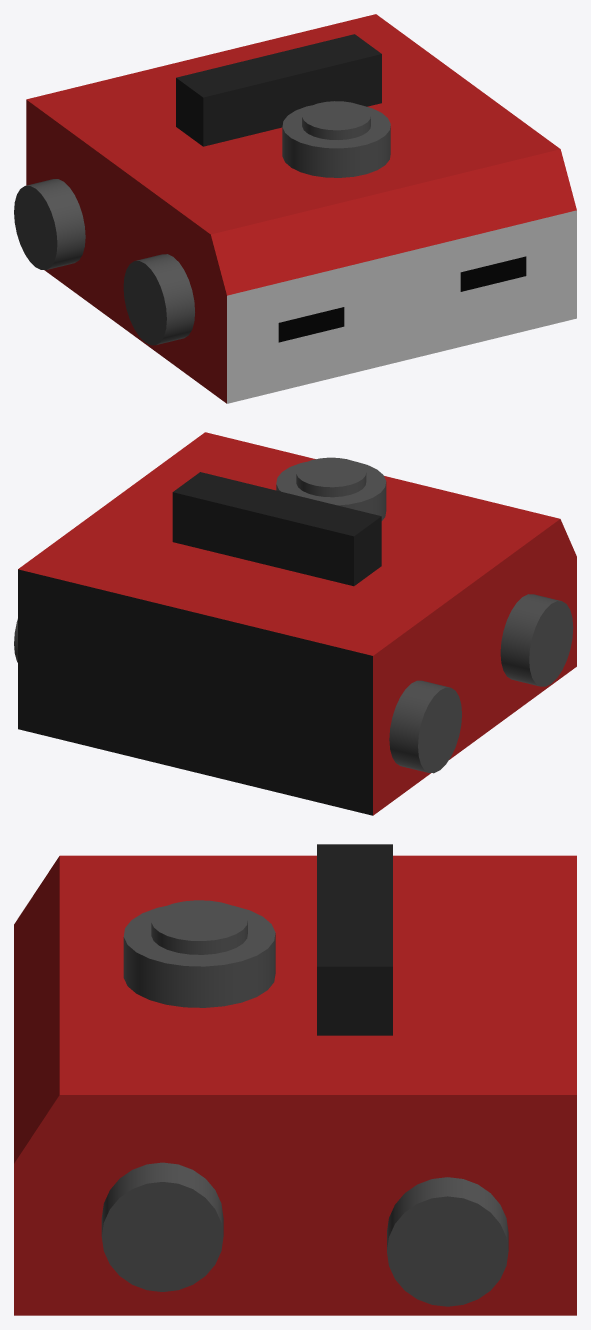
Rendered from ROSBOT3.gltf.
The picture shows the model from 3 angles, top to bottom: view 1: azimuth 30°, elevation 25°; view 2: azimuth 150°, elevation 25°; view 3: azimuth 270°, elevation 25°; orthographic projection. The views are drawn at different scales.
Parts seen in each view (by area): view 1: root; view 2: root; view 3: root.
Boxes of the visible parts, box(x1,y1,x2,y2) form: root: box(14, 14, 576, 403); root: box(14, 432, 576, 815); root: box(14, 844, 576, 1315).
Size of the model in its own units: 0.4321 by 0.21 by 0.37.
